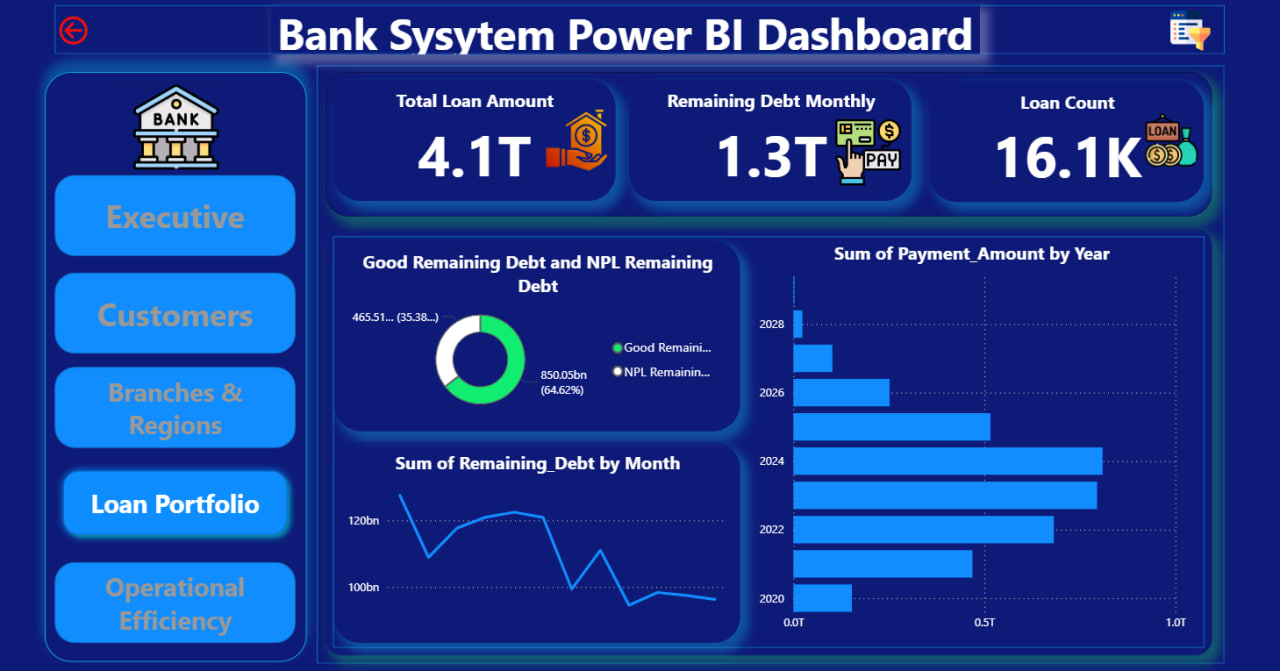

Layout of this report page (visuals, bound fields, positions):
{"tool":"powerbi","page":{"name":"Loan Portfolio","canvas":[1280,720],"ordinal":3},"visuals":[{"type":"shape","box":[19.9,8.7,1244,52.2],"z":0},{"type":"shape","box":[298.8,72.5,965,636.2],"z":1000},{"type":"shape","box":[307.5,246.2,942.5,453.8],"z":2000},{"type":"image","box":[1173.8,8.8,106.2,52.5],"z":3000},{"type":"shape","box":[8.8,78.8,278.8,627.5],"z":4000},{"type":"textbox","title":"Bank Sysytem Power BI Dashboard ","box":[250,7.5,753.8,53.8],"z":5000},{"type":"shape","box":[20,188.8,256.2,86.2],"z":6000},{"type":"shape","box":[20,292.5,256.2,86.2],"z":7000},{"type":"shape","box":[20,392.5,256.2,86.2],"z":8000},{"type":"shape","box":[20,493.8,256.2,86.2],"z":9000},{"type":"shape","box":[20,600,256.2,86.2],"z":10000},{"type":"image","box":[87.5,87.5,123.8,101.2],"z":11000},{"type":"actionButton","box":[20,15,100,40],"z":12000},{"type":"shape","box":[307.5,78.8,942.5,153.8],"z":13000},{"type":"donutChart","fields":{"Y":["page_4.Good Remaining Debt","page_4.NPL Remaining Debt"]},"box":[317.5,258.8,431.2,202.5],"z":14000},{"type":"card","title":"Total Loan Amount","fields":{"Values":["page_4.Total Loan Amount"]},"box":[316.2,87.5,300,128.8],"z":15000},{"type":"image","box":[532.5,111.2,83.8,82.5],"z":16000},{"type":"card","title":"Remaining Debt Monthly","fields":{"Values":["page_4.Remaining Debt Monthly"]},"box":[631.2,87.5,300,128.8],"z":17000},{"type":"image","box":[838.8,123.8,92.5,82.5],"z":18000},{"type":"card","title":"Loan Count","fields":{"Values":["page_4.Loan Count"]},"box":[950,88.8,291.2,128.8],"z":19000},{"type":"lineChart","fields":{"Y":["Sum(Dim_Loans.Remaining_Debt)"],"Category":["Dim_Loans.Start_Date.Variation.Date Hierarchy.Month"]},"box":[317.5,473.8,431.2,212.5],"z":20000},{"type":"clusteredBarChart","fields":{"Category":["Fact_LoanPayments.Payment_Date.Variation.Date Hierarchy.Year"],"Y":["Sum(Fact_LoanPayments.Payment_Amount)"]},"box":[762.5,258.8,465,423.8],"z":21000},{"type":"image","box":[1173.8,111.2,66.2,82.5],"z":22000}]}

Visuals, with their boxes on the page's 1280x720 design canvas (x1, y1, x2, y2). These are canvas units, not pixel positions in the 1280x671 screenshot, which may show the page scaled, cropped or inside an application window:
shape: region(20, 9, 1264, 61)
shape: region(299, 72, 1264, 709)
shape: region(308, 246, 1250, 700)
image: region(1174, 9, 1280, 61)
shape: region(9, 79, 288, 706)
"Bank Sysytem Power BI Dashboard " textbox: region(250, 8, 1004, 61)
shape: region(20, 189, 276, 275)
shape: region(20, 292, 276, 379)
shape: region(20, 392, 276, 479)
shape: region(20, 494, 276, 580)
shape: region(20, 600, 276, 686)
image: region(88, 88, 211, 189)
actionButton: region(20, 15, 120, 55)
shape: region(308, 79, 1250, 233)
donutChart - page_4.Good Remaining Debt x page_4.NPL Remaining Debt: region(318, 259, 749, 461)
"Total Loan Amount" card: region(316, 88, 616, 216)
image: region(532, 111, 616, 194)
"Remaining Debt Monthly" card: region(631, 88, 931, 216)
image: region(839, 124, 931, 206)
"Loan Count" card: region(950, 89, 1241, 218)
lineChart - Sum(Dim_Loans.Remaining_Debt) x Dim_Loans.Start_Date.Variation.Date Hierarchy.Month: region(318, 474, 749, 686)
clusteredBarChart - Fact_LoanPayments.Payment_Date.Variation.Date Hierarchy.Year x Sum(Fact_LoanPayments.Payment_Amount): region(762, 259, 1228, 683)
image: region(1174, 111, 1240, 194)
